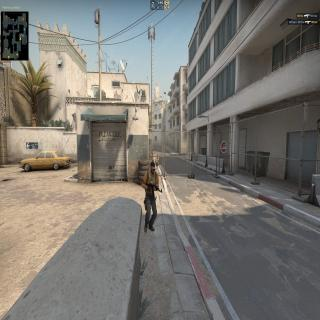T-Head: (150, 161, 156, 175)
